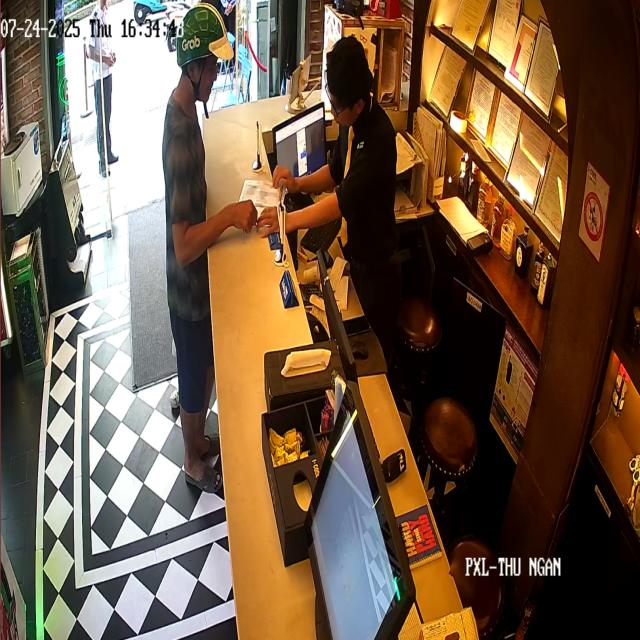khach: (160, 22, 238, 506)
nhan vien: (318, 36, 416, 334), (83, 0, 121, 177)
